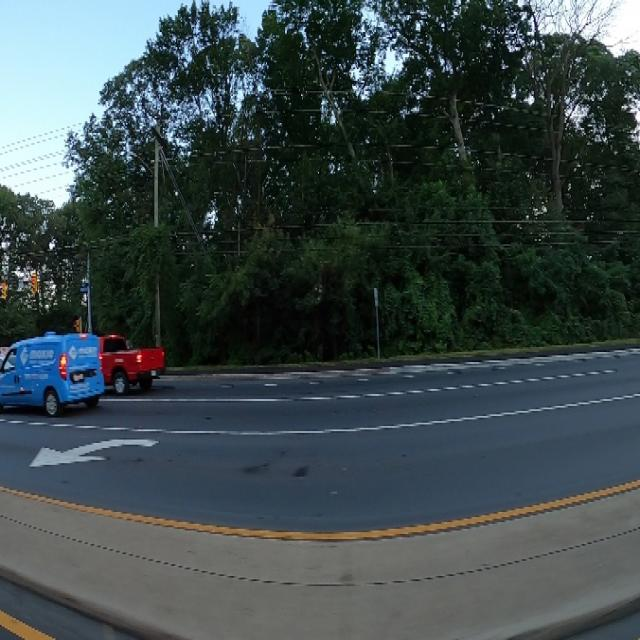car: (0, 315, 108, 419), (76, 322, 164, 413)
